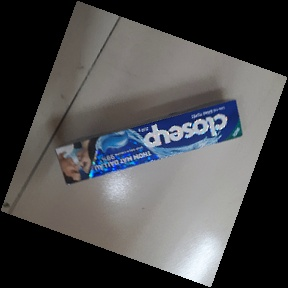CloseUp Tuyet: (52, 96, 242, 186)
